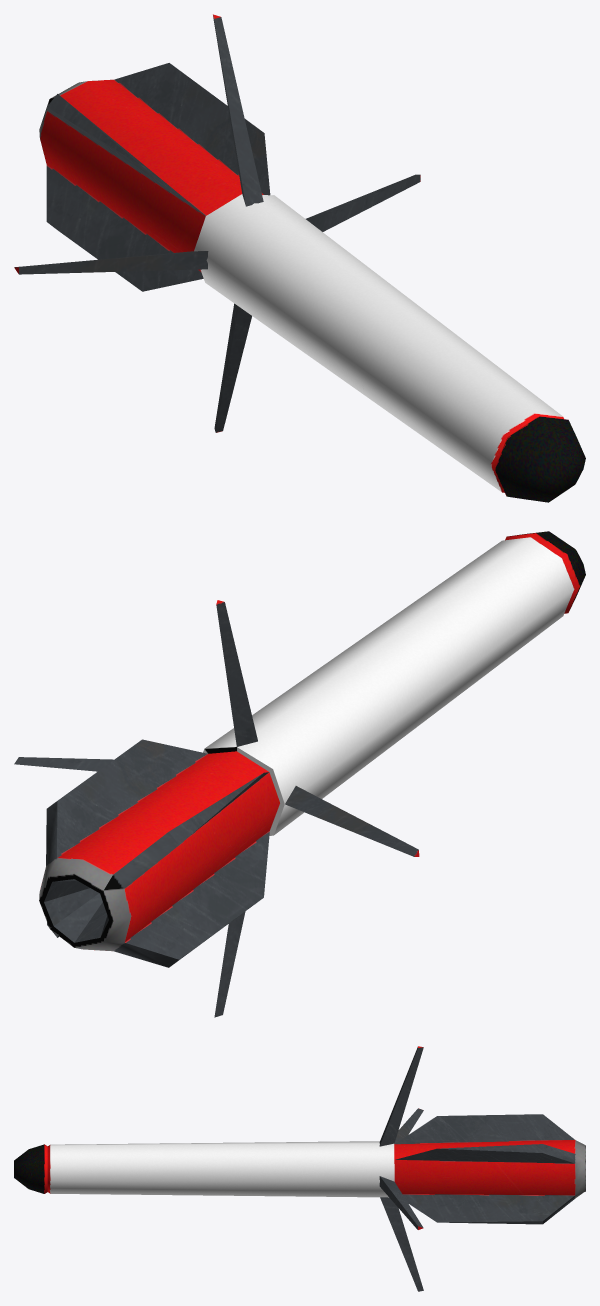
Rendered from MissileTEX.fbx.
The picture shows the model from 3 angles, top to bottom: view 1: azimuth 30°, elevation 25°; view 2: azimuth 150°, elevation 25°; view 3: azimuth 270°, elevation 25°; orthographic projection. The views are drawn at different scales.
Parts seen in each view (by area): view 1: MissileOBJ; view 2: MissileOBJ; view 3: MissileOBJ.
Boxes of the visible parts, x1,y1,x2,y2 form: MissileOBJ: [14, 14, 585, 502]; MissileOBJ: [14, 531, 585, 1017]; MissileOBJ: [14, 1046, 585, 1291].
Size of the model in its own units: 83.71 by 82.61 by 176.
1 material, 1 textured.
